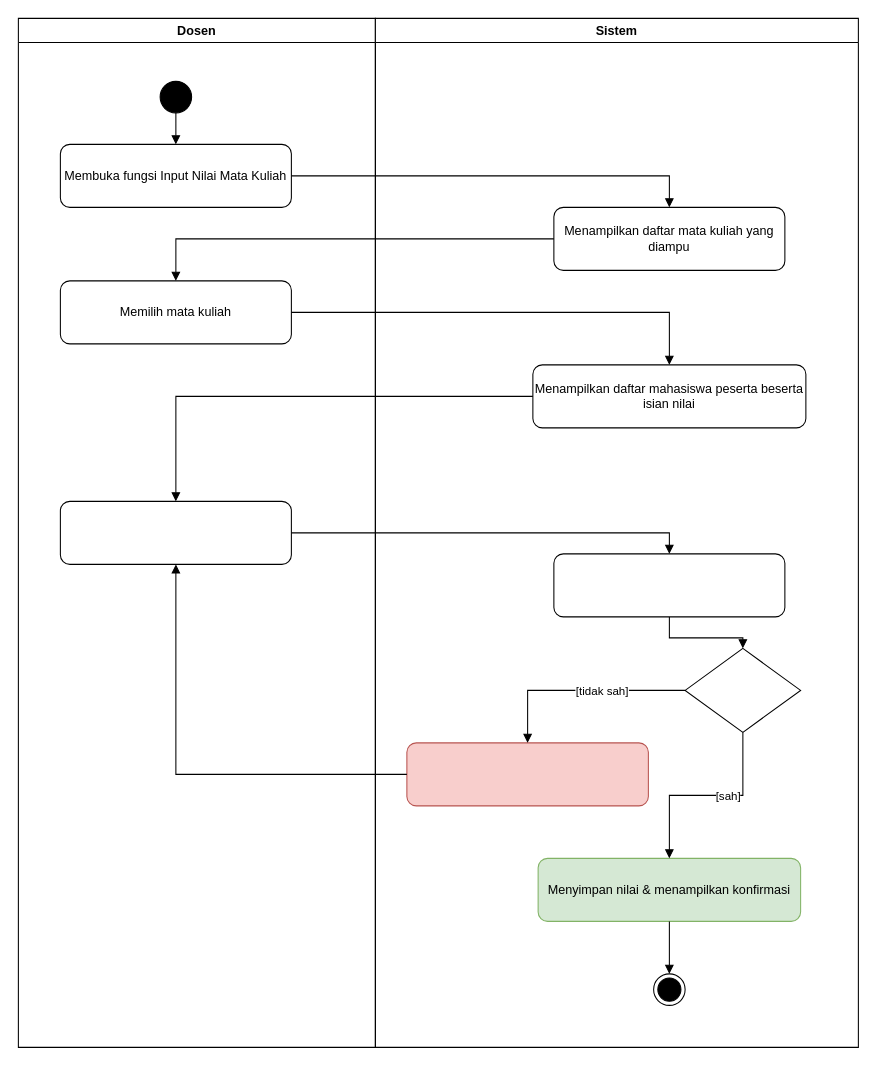
This 877x1066 diagram has some shape labels left out. Here are the shapes that lost their labels. From the top down, the centre of each, then its label:
(175,532): Mengisi nilai setiap mahasiswa
(669,585): Memeriksa nilai berada dalam rentang yang sah
(742,689): Nilai dalam rentang sah?
(527,774): Menampilkan pesan nilai di luar rentang
